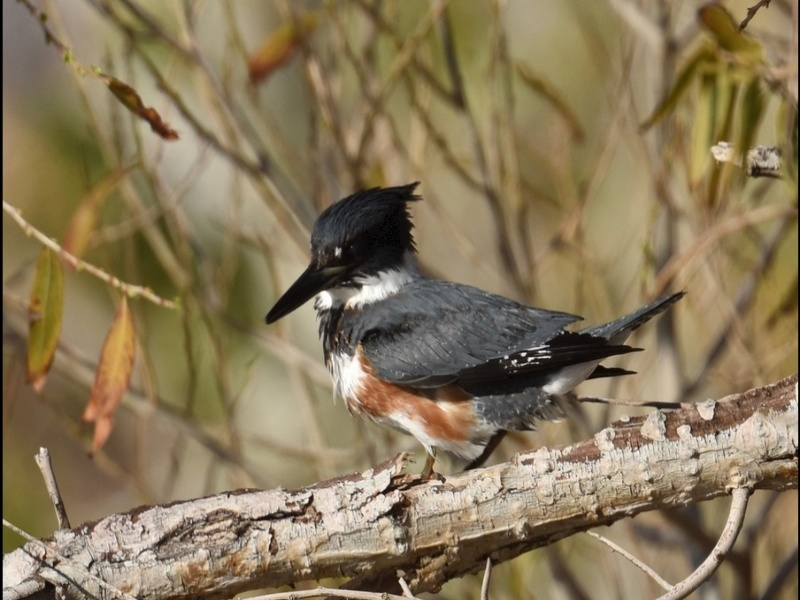kingfisher: (264, 177, 689, 475)
